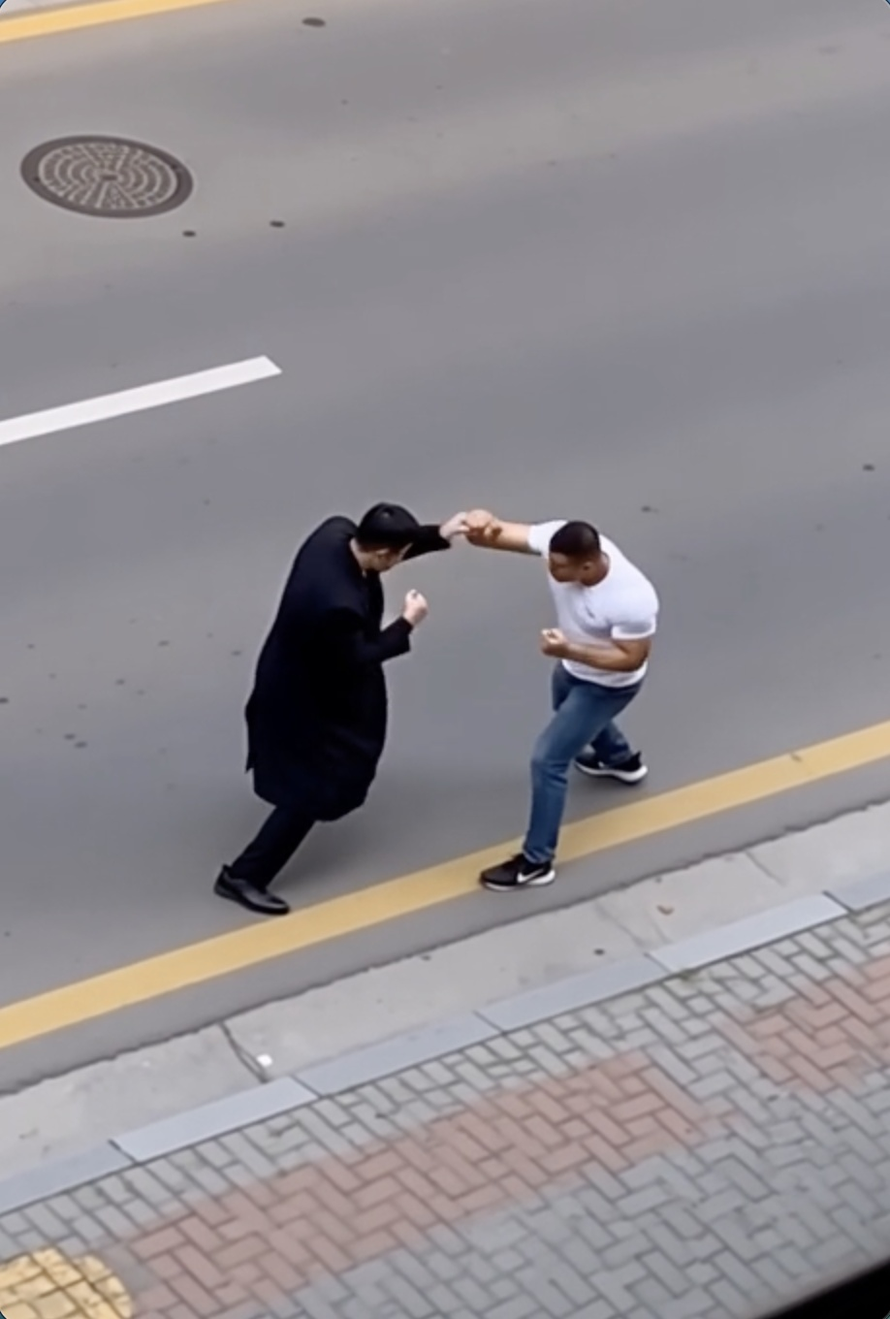Assault: (211, 501, 471, 918)
Fighting: (457, 511, 660, 891)
